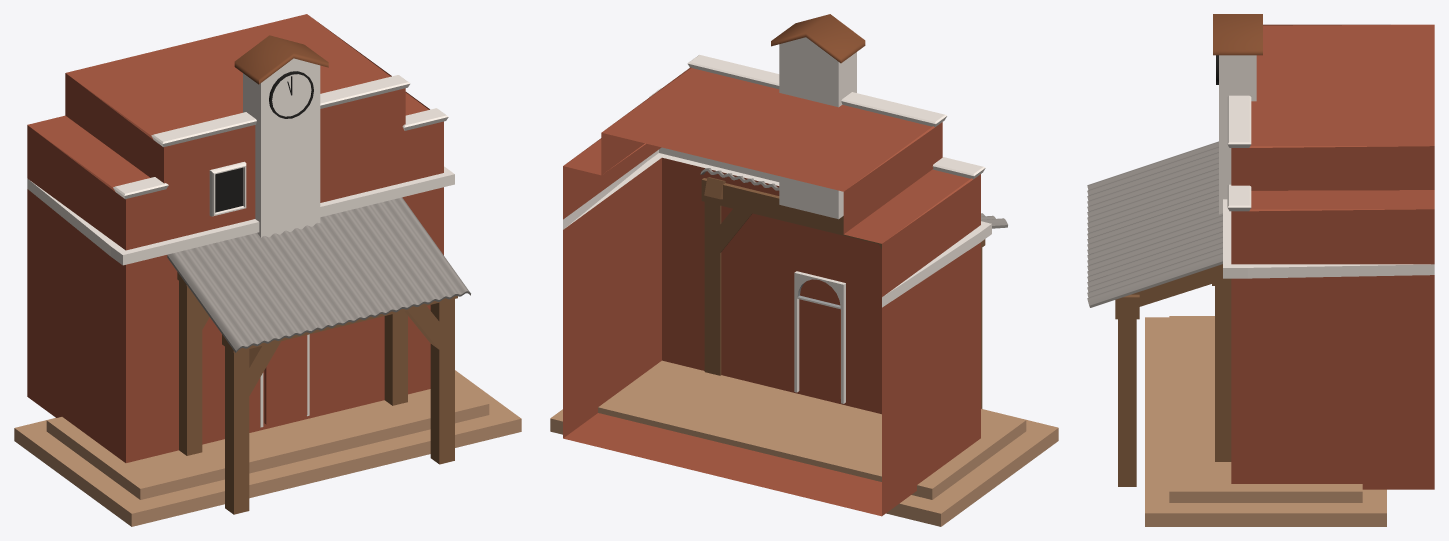
File: Building1.fbx
The picture shows the model from 3 angles, left to right: view 1: azimuth 30°, elevation 25°; view 2: azimuth 150°, elevation 25°; view 3: azimuth 270°, elevation 25°; orthographic projection. The views are drawn at different scales.
Parts seen in each view (by area): view 1: pCube3, pCube14, pCube10, pCube21, pCube7, pCube11, Door, pCube18; view 2: pCube3, pCube14, pCube21, pCube11, Door, Doorframe, pCube10; view 3: pCube3, pCube14, pCube10, pCube21, pCube7, pCube11, pCube12.
Part boxes in pixels (box(x1,y1,x2,y2)): pCube3: box(27, 14, 454, 462); pCube14: box(14, 370, 521, 526); pCube10: box(167, 197, 470, 352); pCube21: box(234, 35, 328, 237); pCube7: box(222, 296, 457, 514); pCube11: box(177, 272, 407, 455); Door: box(264, 335, 307, 424); pCube18: box(209, 161, 246, 216); pCube3: box(563, 54, 991, 516); pCube14: box(550, 360, 1058, 526); pCube21: box(771, 14, 865, 219); pCube11: box(701, 178, 881, 375); Door: box(799, 299, 840, 398); Doorframe: box(794, 271, 845, 403); pCube10: box(700, 168, 1007, 228); pCube3: box(1223, 24, 1434, 489); pCube14: box(1145, 316, 1386, 526); pCube10: box(1087, 141, 1222, 307); pCube21: box(1213, 14, 1262, 214); pCube7: box(1115, 294, 1139, 486); pCube11: box(1212, 264, 1231, 461); pCube12: box(1131, 268, 1211, 306).
Bounding box in the file's own units: 1.12 × 1.1 × 0.8363.
Materials: 2 (1 with a texture image).
